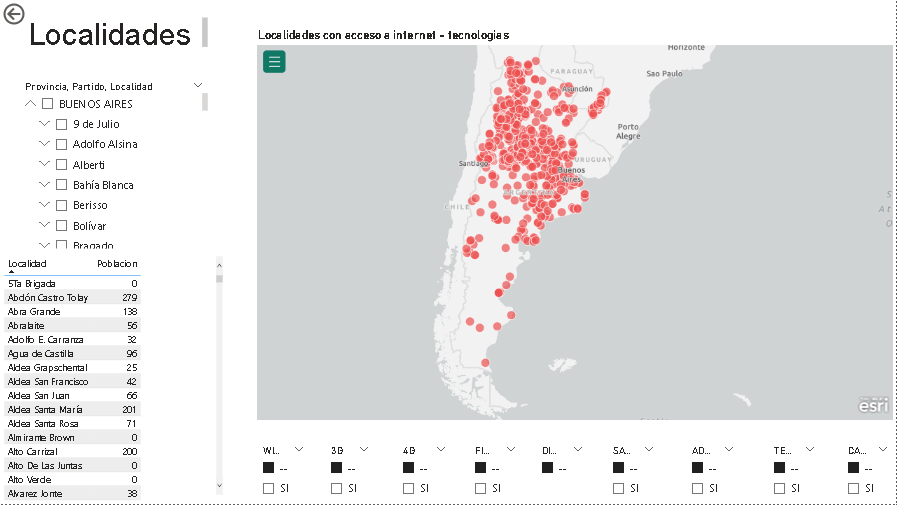

This screenshot's page, from the dashboard's own definition file:
{"tool":"powerbi","page":{"name":"Página 4","canvas":[1280,720],"ordinal":2},"visuals":[{"type":"esriVisual","title":"Localidades con acceso a internet - tecnologias","fields":{"Location":["Acceso Internet Tecnologia Localidad.Localidad"],"Color":["Acceso Internet Tecnologia Localidad.3G"]},"box":[362.2,40.2,918.3,564.8],"z":0},{"type":"actionButton","box":[0,0,100,40],"z":1000},{"type":"tableEx","fields":{"Values":["Acceso Internet Tecnologia Localidad.Localidad","Acceso Internet Tecnologia Localidad.Poblacion"]},"box":[0,360.7,323.4,359.3],"z":2000},{"type":"slicer","fields":{"Values":["Acceso Internet Tecnologia Localidad.Provincia","Acceso Internet Tecnologia Localidad.Partido","Acceso Internet Tecnologia Localidad.Localidad"]},"box":[23,110.7,278.8,250.1],"z":3000},{"type":"slicer","fields":{"Values":["Acceso Internet Tecnologia Localidad.3G"]},"box":[459.9,629.5,79,90.5],"z":4000},{"type":"slicer","fields":{"Values":["Acceso Internet Tecnologia Localidad.4G"]},"box":[563.4,629.5,86.2,90.5],"z":5000},{"type":"slicer","fields":{"Values":["Acceso Internet Tecnologia Localidad.ADSL"]},"box":[975.8,629.5,84.8,90.5],"z":6000},{"type":"slicer","fields":{"Values":["Acceso Internet Tecnologia Localidad.CABLEMODEM"]},"box":[1198.6,629.5,81.9,90.5],"z":7000},{"type":"slicer","fields":{"Values":["Acceso Internet Tecnologia Localidad.DIALUP"]},"box":[761.7,629.5,83.4,90.5],"z":8000},{"type":"slicer","fields":{"Values":["Acceso Internet Tecnologia Localidad.FIBRAOPTICA"]},"box":[665.4,629.5,83.4,90.5],"z":9000},{"type":"slicer","fields":{"Values":["Acceso Internet Tecnologia Localidad.SATELITAL"]},"box":[862.3,629.5,83.4,90.5],"z":10000},{"type":"slicer","fields":{"Values":["Acceso Internet Tecnologia Localidad.TELEFONIAFIJA"]},"box":[1092.2,629.5,83.4,90.5],"z":11000},{"type":"slicer","fields":{"Values":["Acceso Internet Tecnologia Localidad.WIRELESS"]},"box":[362.2,629.5,83.4,90.5],"z":12000},{"type":"textbox","box":[35.9,20.1,265.9,56],"z":13000}]}

Visuals, with their boxes on the page's 1280x720 design canvas (x1, y1, x2, y2). These are canvas units, not pixel positions in the 897x505 screenshot, which may show the page scaled, cropped or inside an application window:
"Localidades con acceso a internet - tecnologias" esriVisual: region(362, 40, 1280, 605)
actionButton: region(0, 0, 100, 40)
tableEx - Acceso Internet Tecnologia Localidad.Localidad x Acceso Internet Tecnologia Localidad.Poblacion: region(0, 361, 323, 720)
slicer - Acceso Internet Tecnologia Localidad.Provincia x Acceso Internet Tecnologia Localidad.Partido: region(23, 111, 302, 361)
slicer - Acceso Internet Tecnologia Localidad.3G: region(460, 630, 539, 720)
slicer - Acceso Internet Tecnologia Localidad.4G: region(563, 630, 650, 720)
slicer - Acceso Internet Tecnologia Localidad.ADSL: region(976, 630, 1061, 720)
slicer - Acceso Internet Tecnologia Localidad.CABLEMODEM: region(1199, 630, 1280, 720)
slicer - Acceso Internet Tecnologia Localidad.DIALUP: region(762, 630, 845, 720)
slicer - Acceso Internet Tecnologia Localidad.FIBRAOPTICA: region(665, 630, 749, 720)
slicer - Acceso Internet Tecnologia Localidad.SATELITAL: region(862, 630, 946, 720)
slicer - Acceso Internet Tecnologia Localidad.TELEFONIAFIJA: region(1092, 630, 1176, 720)
slicer - Acceso Internet Tecnologia Localidad.WIRELESS: region(362, 630, 446, 720)
textbox: region(36, 20, 302, 76)
